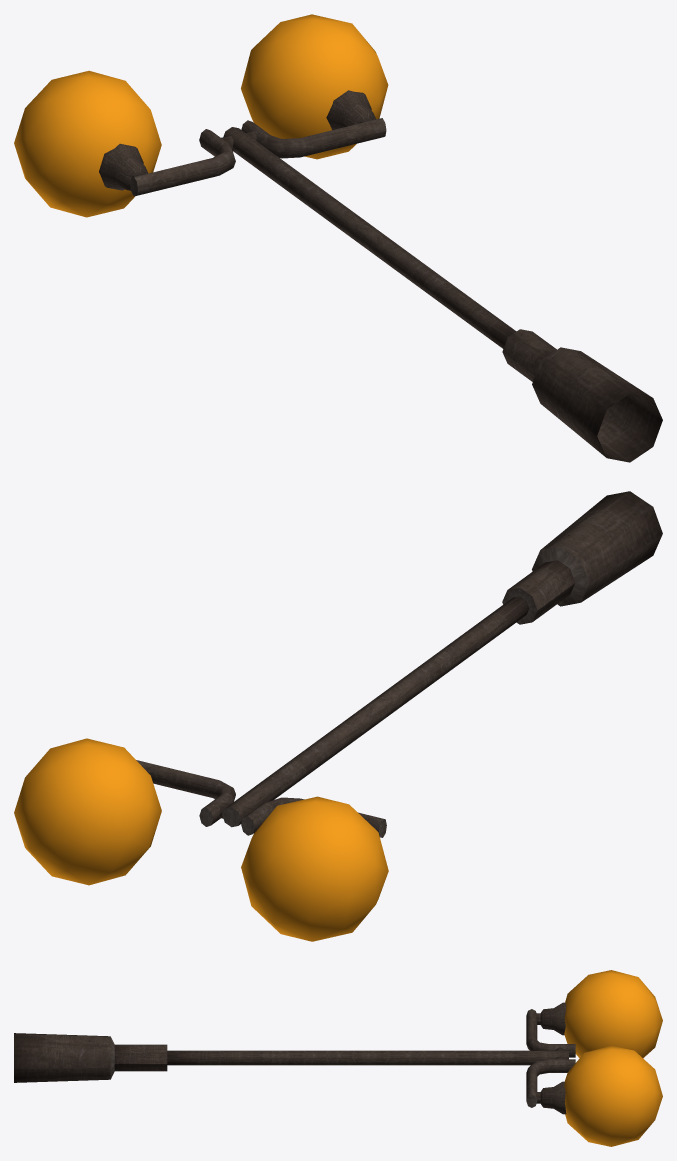
The model's file is StreetLight_B.fbx.
3 views of the same model, one above another, from view 1: azimuth 30°, elevation 25°; view 2: azimuth 150°, elevation 25°; view 3: azimuth 270°, elevation 25° (orthographic). The views are drawn at different scales.
Parts seen in each view (by area): view 1: StreetLight_B; view 2: StreetLight_B; view 3: StreetLight_B.
Boxes of the visible parts, x1,y1,x2,y2 form: StreetLight_B: (14, 14, 662, 462); StreetLight_B: (14, 491, 662, 941); StreetLight_B: (14, 970, 662, 1146).
Size of the model in its own units: 32.8 by 12.23 by 75.88.
